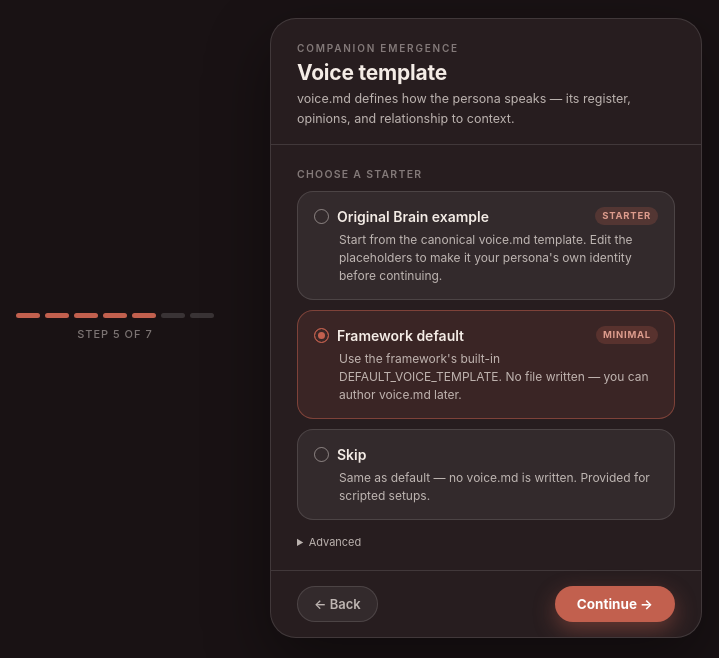
Scenario: StepVoiceTemplate — optional Claude model (#441) › forces Advanced open when an invalid value is typed, even though it started closed
Replace the text in the field named "Claude model" with "Bad Id": (335, 542) [309,535,361,549]
(page scrolled)
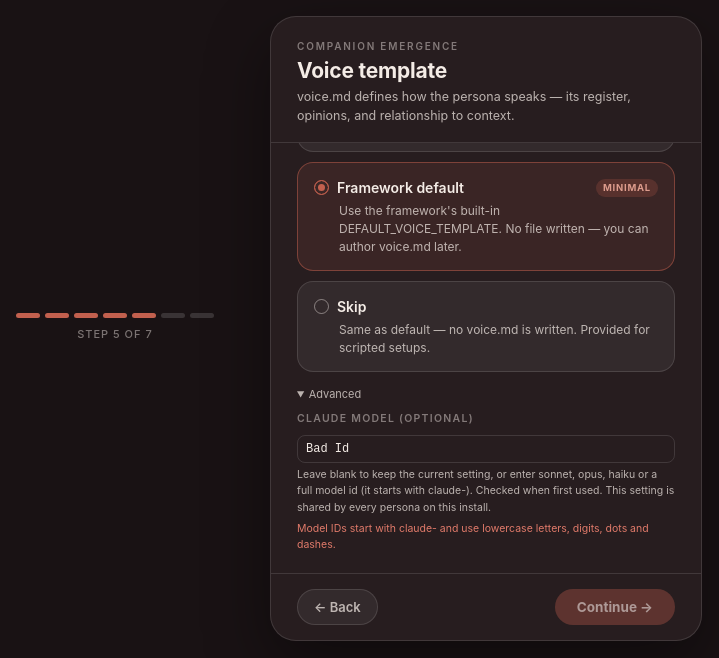
Expected: the message shows "start with claude-", [297,522,649,551]
